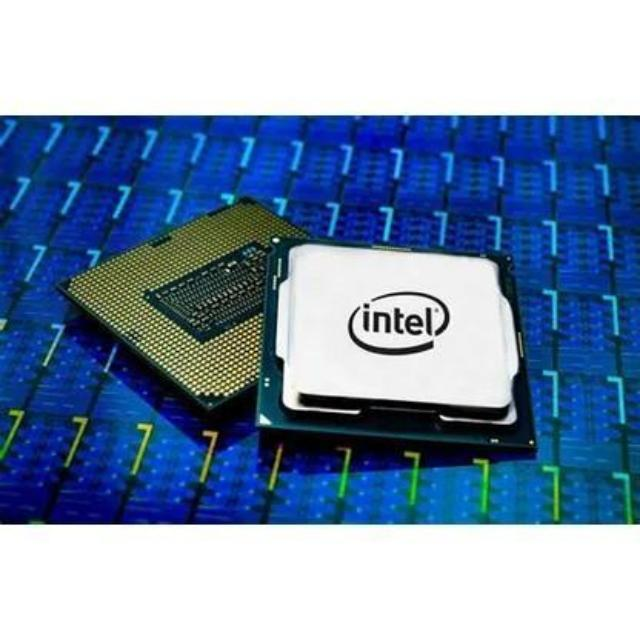CPU: (278, 238, 522, 440), (71, 205, 266, 404)
